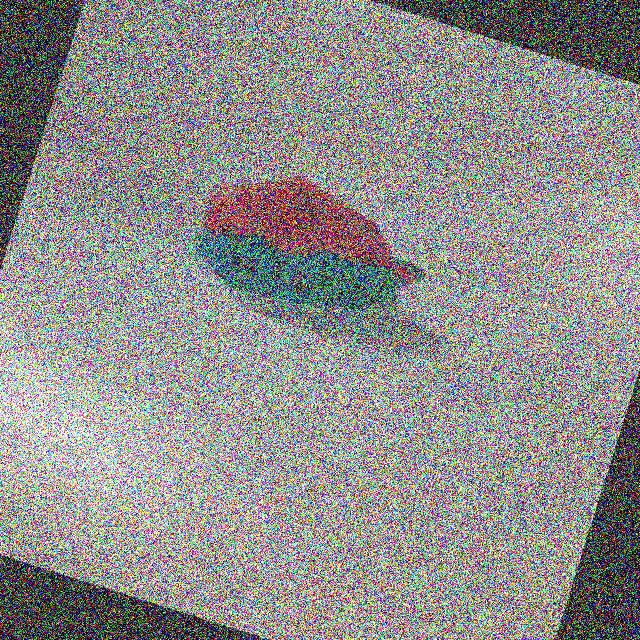House: (175, 147, 445, 346)
